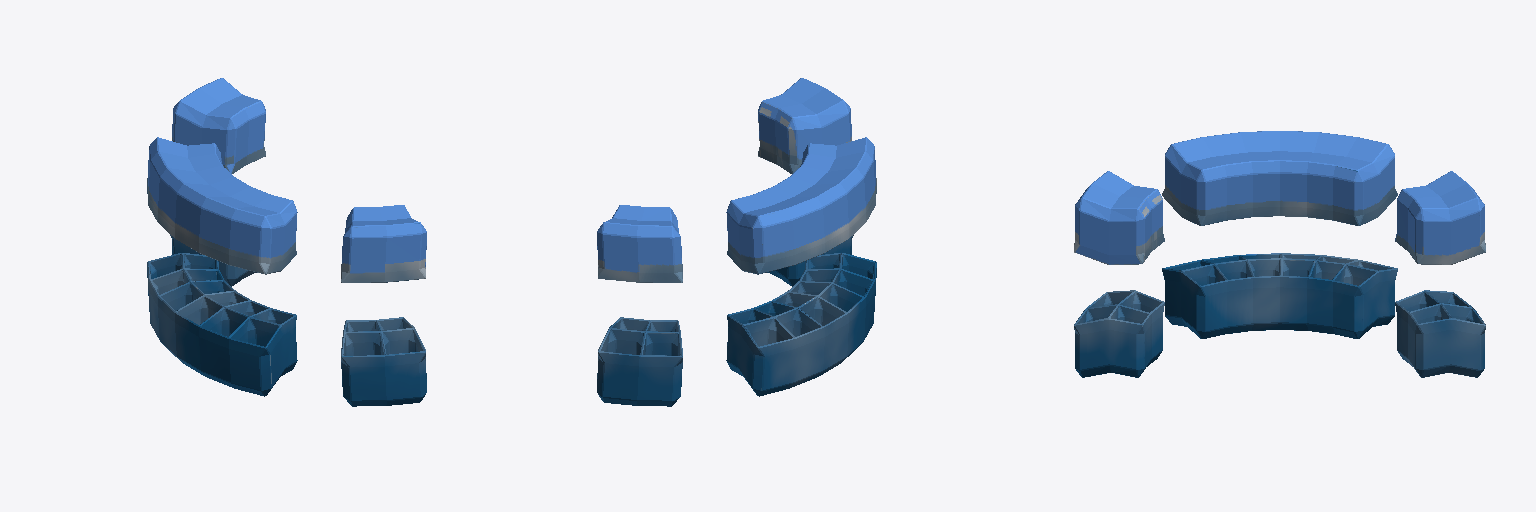
3 views of the same model, side by side, from view 1: azimuth 30°, elevation 25°; view 2: azimuth 150°, elevation 25°; view 3: azimuth 270°, elevation 25° (orthographic).
Parts seen in each view (by area): view 1: base_dortoir; view 2: base_dortoir; view 3: base_dortoir.
Part boxes in pixels (bbox=[...]): base_dortoir: bbox=[147, 78, 426, 406]; base_dortoir: bbox=[597, 78, 876, 406]; base_dortoir: bbox=[1074, 131, 1485, 377].
Bounding box in the file's own units: 13.14 × 13.97 × 28.94.
1 materials, 1 textured.